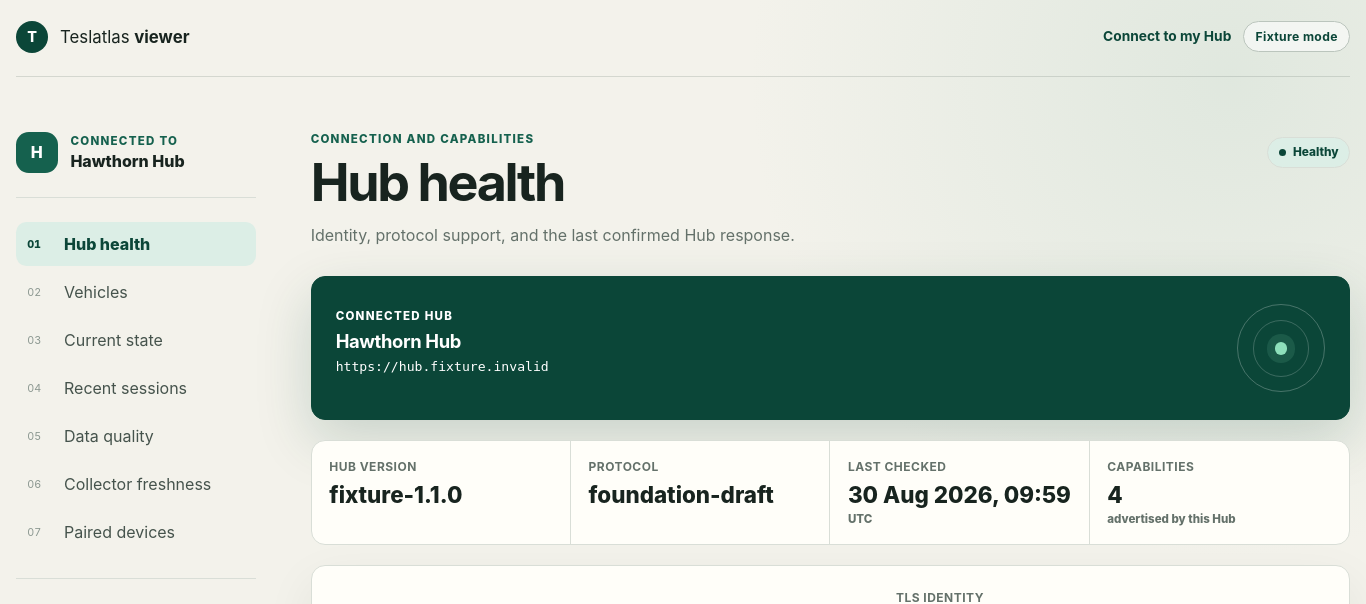
reference views › shows per-vehicle counts and bounded continuation through 51 drives
Click the button "04 Recent sessions" at (136, 388), box [16,366,256,410]
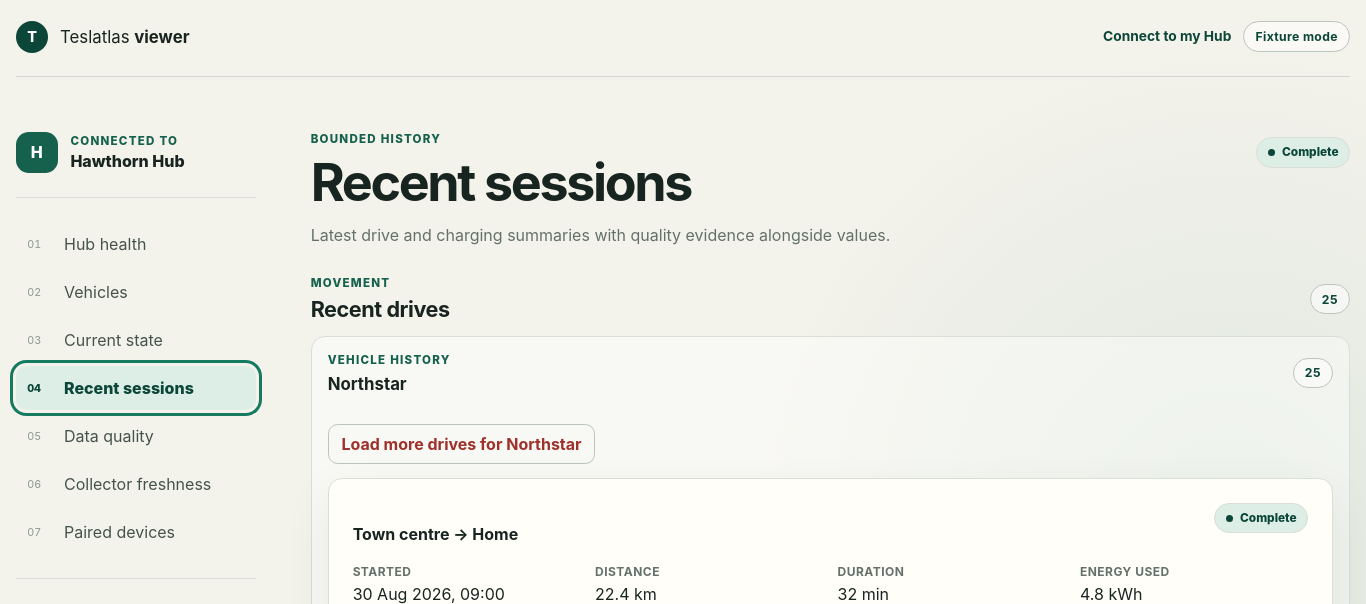
Check: the 2nd text "25" is shown, box [1293,358,1333,388]
Click the button "Load more drives for Northstar" at (462, 444), box [328,424,595,464]
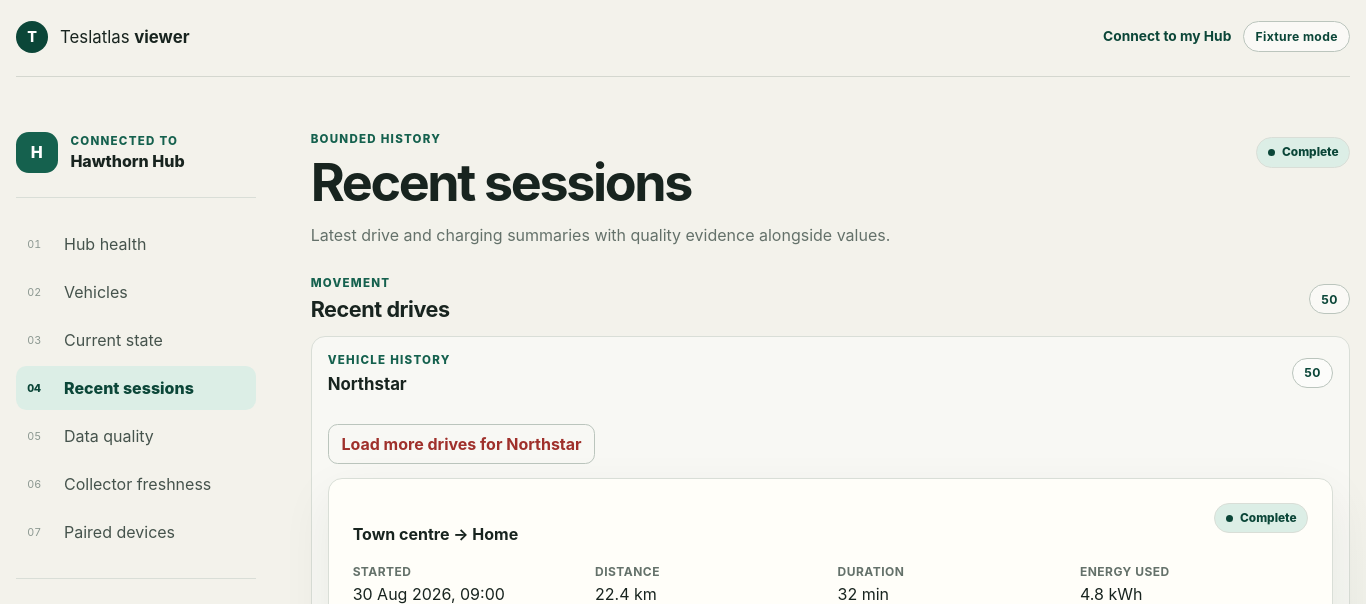
Check: the 2nd text "50" is shown, box [1292,358,1333,388]
Click the button "Load more drives for Northstar" at (462, 444), box [328,424,595,464]
(page scrolled)
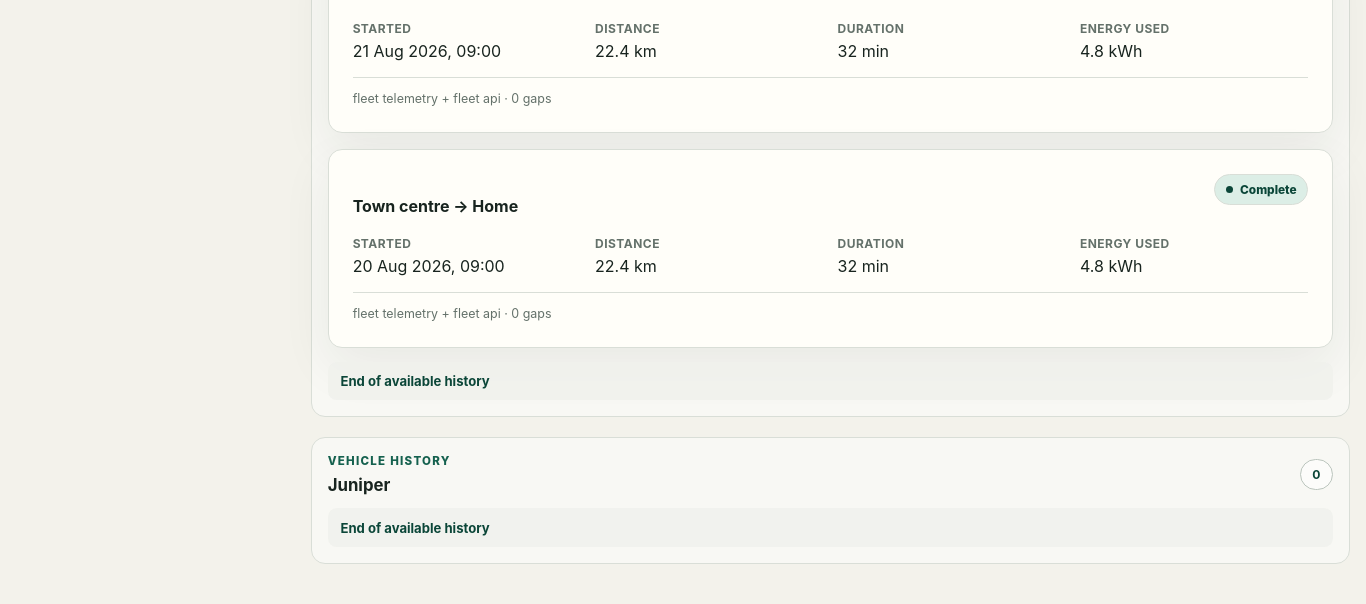
Check: the button "Load more drives" is gone
Check: the 1st text "End of available history" is shown, box [328,362,1333,400]
